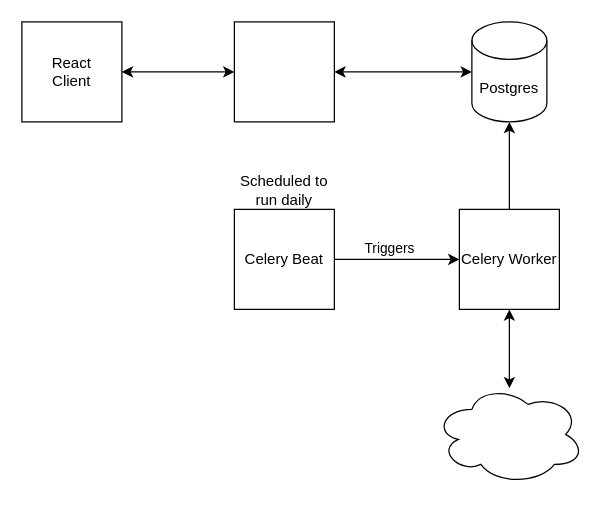
Image size: 606x506. Some labels were removed from this diagram. The shapes that lost their labels are listed below. From the top down, each one's centre as x and y in pixels, then its label:
At point (283, 71): "Django REST API".
At point (508, 433): "CoinGecko API".
